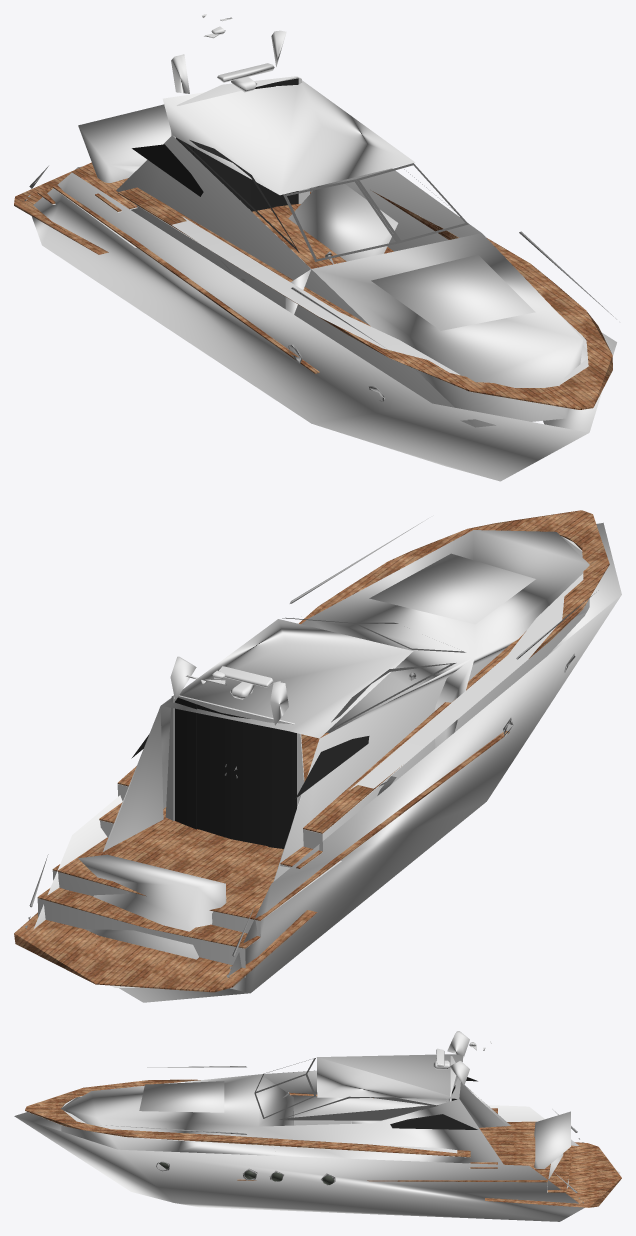
File: Boat.glb
The picture shows the model from 3 angles, top to bottom: view 1: azimuth 30°, elevation 25°; view 2: azimuth 150°, elevation 25°; view 3: azimuth 270°, elevation 25°; orthographic projection. The views are drawn at different scales.
Visible parts, largest first — view 1: Obj3d66-1416950-2-28; view 2: Obj3d66-1416950-2-28; view 3: Obj3d66-1416950-2-28.
Part boxes in pixels (box(x1,y1,x2,y2)): Obj3d66-1416950-2-28: box(14, 14, 616, 481); Obj3d66-1416950-2-28: box(14, 510, 621, 1002); Obj3d66-1416950-2-28: box(14, 1031, 621, 1221).
Bounding box in the file's own units: 1.01 × 1.19 × 3.83.
Materials: 2 (2 with a texture image).
